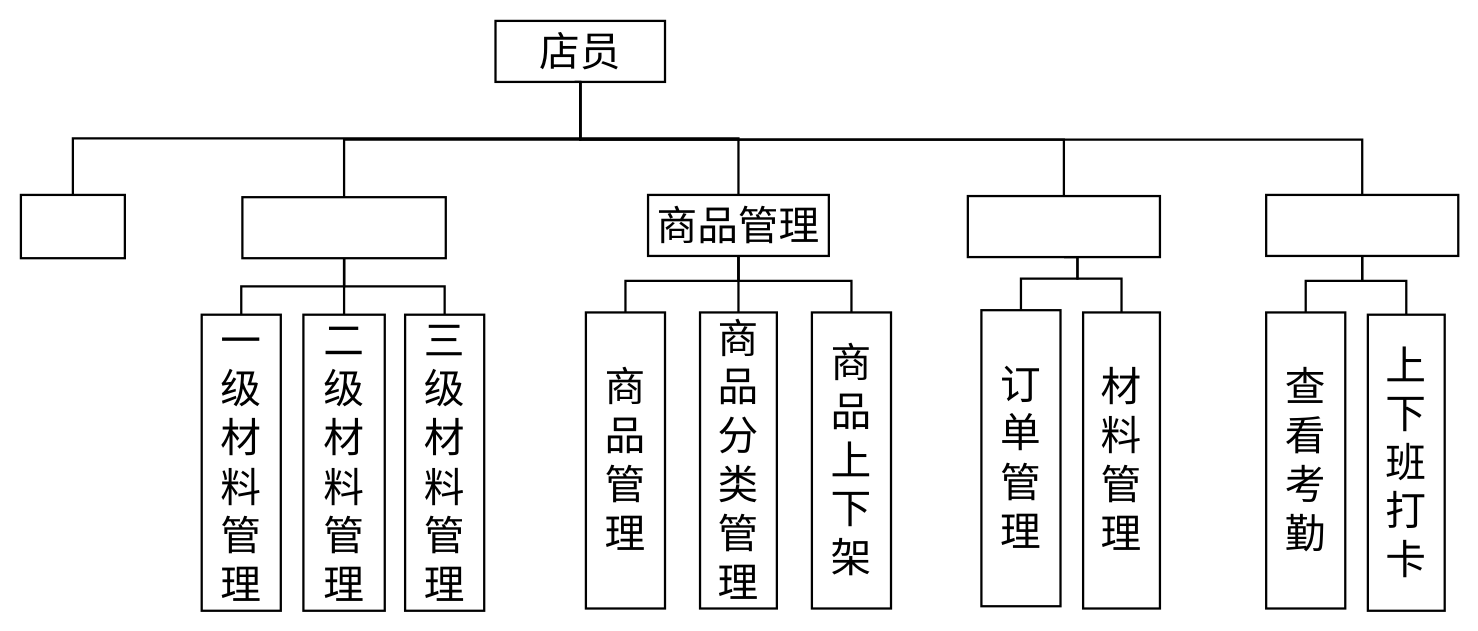
Some shapes in this 1478 by 631 pixel diagram are drawn without their labels. Each missing label, with the centre of its shape:
材料管理: (343,227)
登录: (72,226)
考勤管理: (1361,225)
订单管理: (1063,226)
